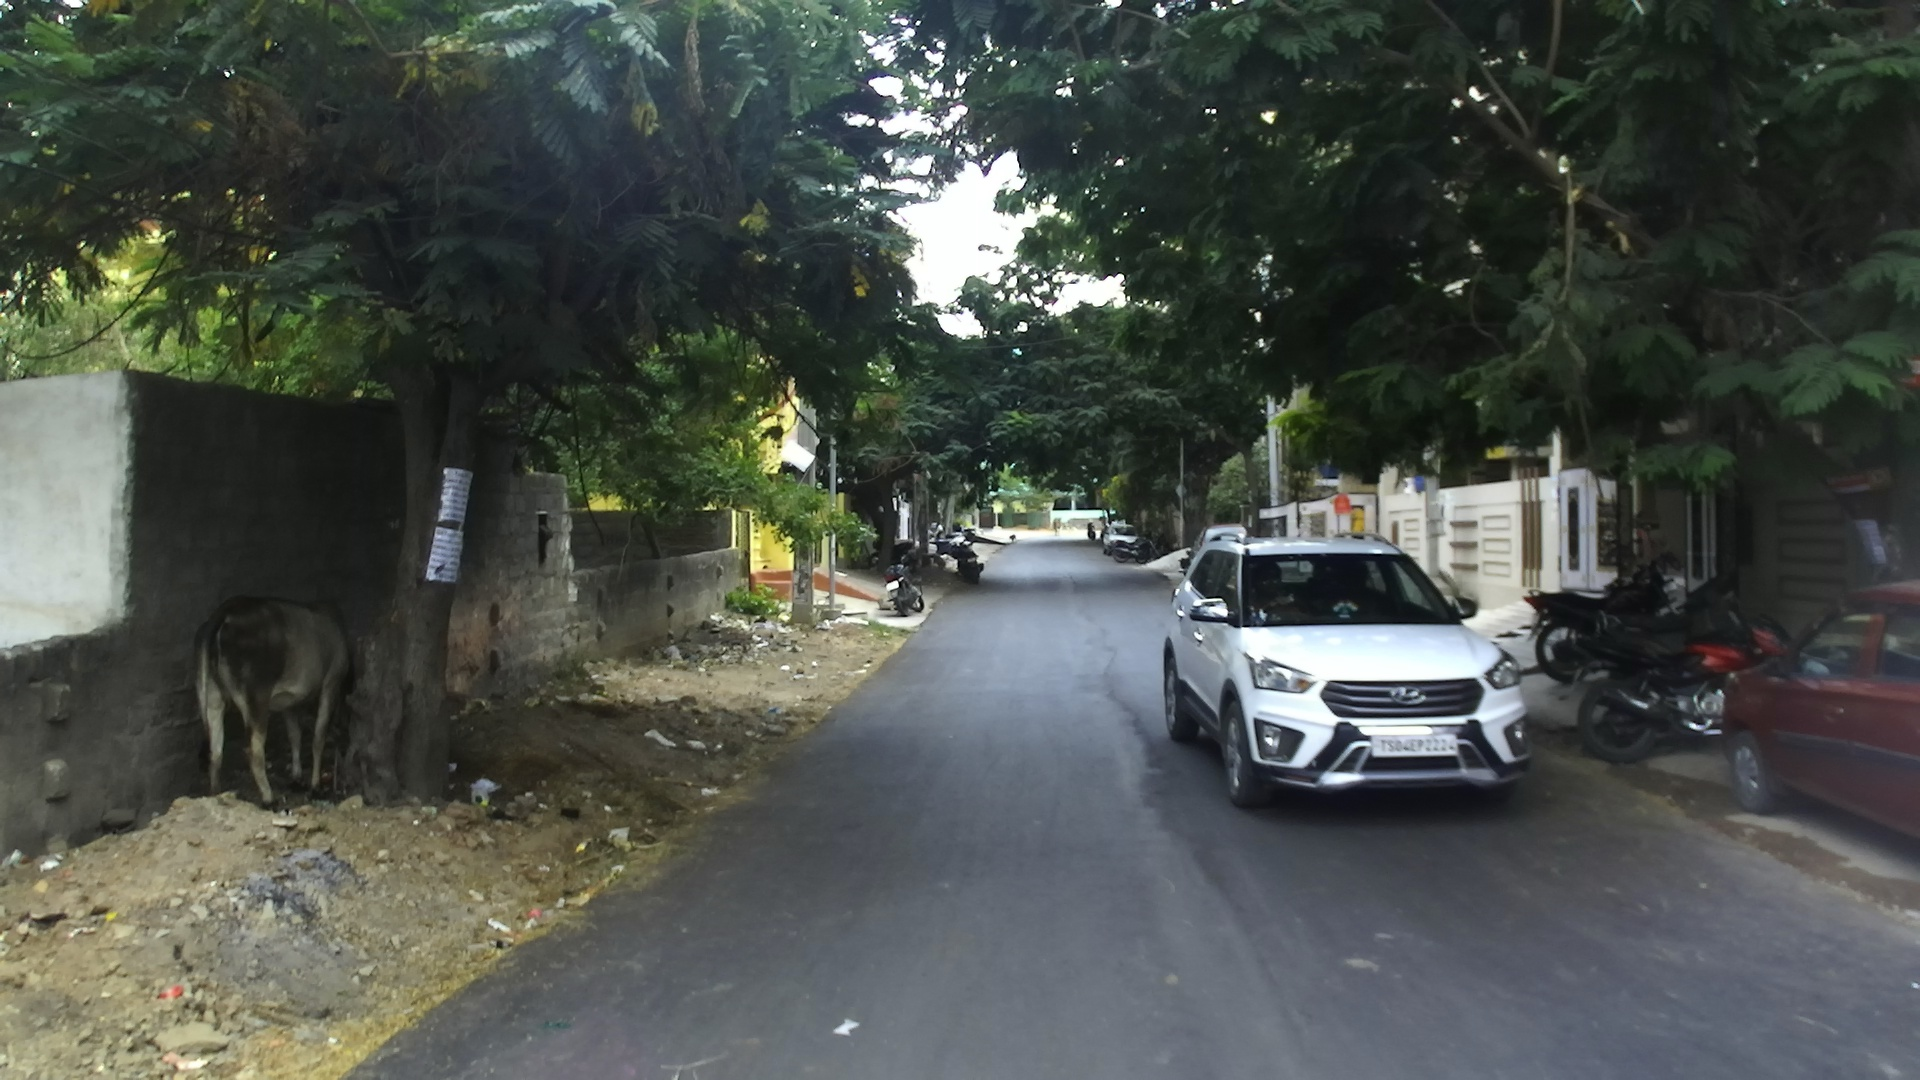vehicle: (1160, 530, 1534, 807), (1721, 582, 1917, 847), (1549, 578, 1785, 771), (1543, 575, 1785, 764), (1101, 522, 1142, 560)
